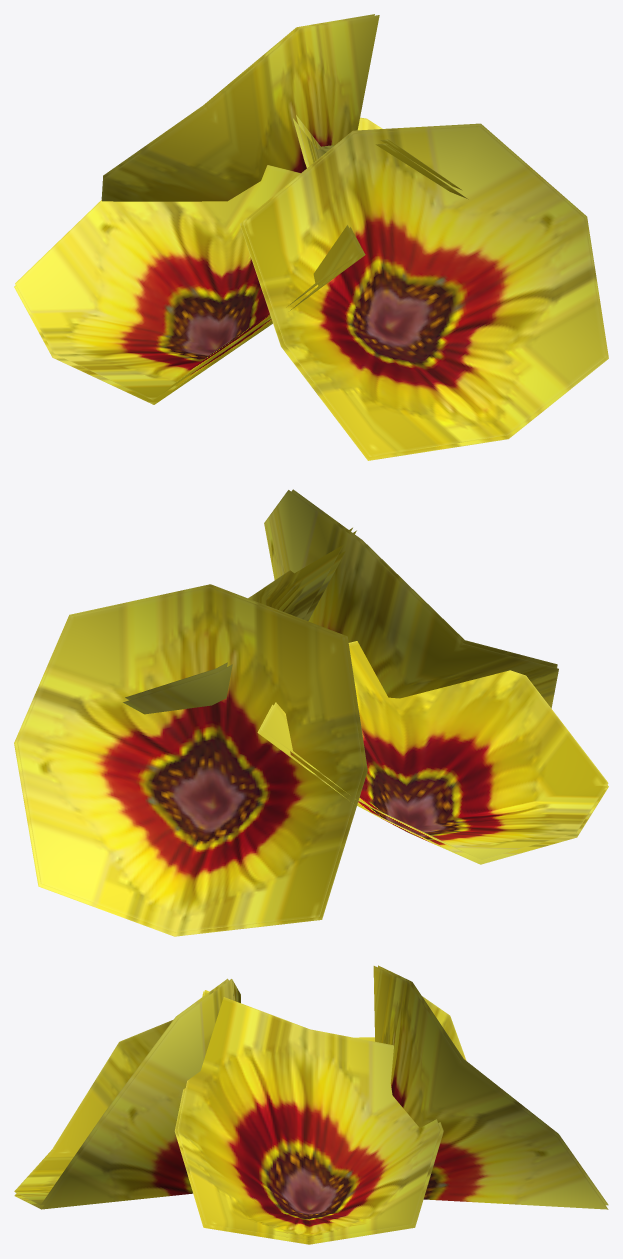
Rendered from flower_yellow_1.fbx.
3 renders of one model, top to bottom at view 1: azimuth 30°, elevation 25°; view 2: azimuth 150°, elevation 25°; view 3: azimuth 270°, elevation 25°, orthographic. The views are drawn at different scales.
Parts seen in each view (by area): view 1: flower_yellow_1; view 2: flower_yellow_1; view 3: flower_yellow_1.
Boxes of the visible parts, x1,y1,x2,y2 form: flower_yellow_1: [14, 14, 608, 460]; flower_yellow_1: [14, 489, 608, 936]; flower_yellow_1: [14, 965, 608, 1244].
Size of the model in its own units: 0.8174 by 0.41 by 0.9509.
